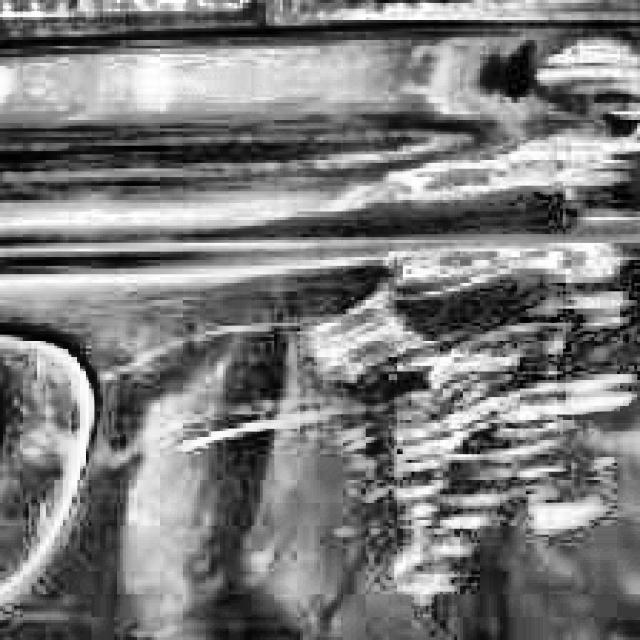bumper_dent: (206, 339, 324, 561)
bumper_scratch: (343, 43, 640, 577)
